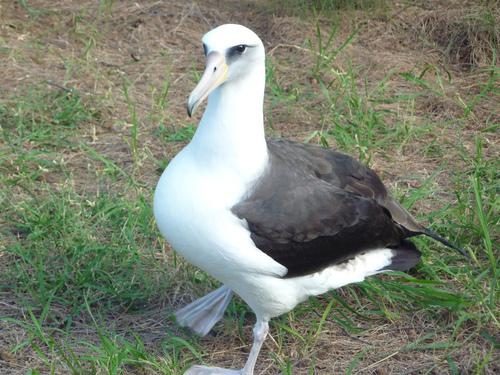002.Laysan_Albatross: (153, 25, 428, 375)
